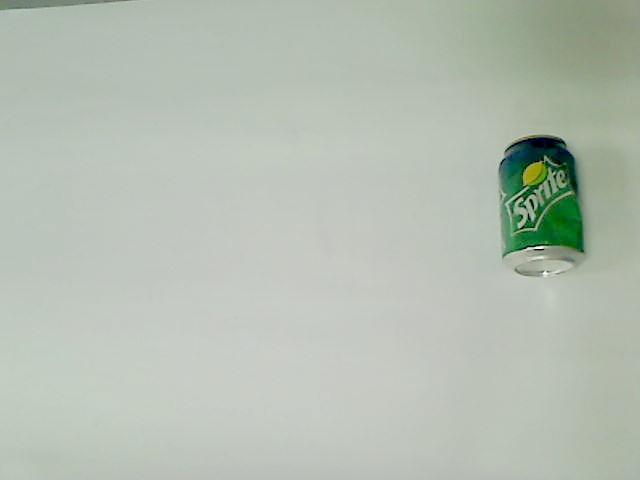can: (495, 133, 592, 281)
